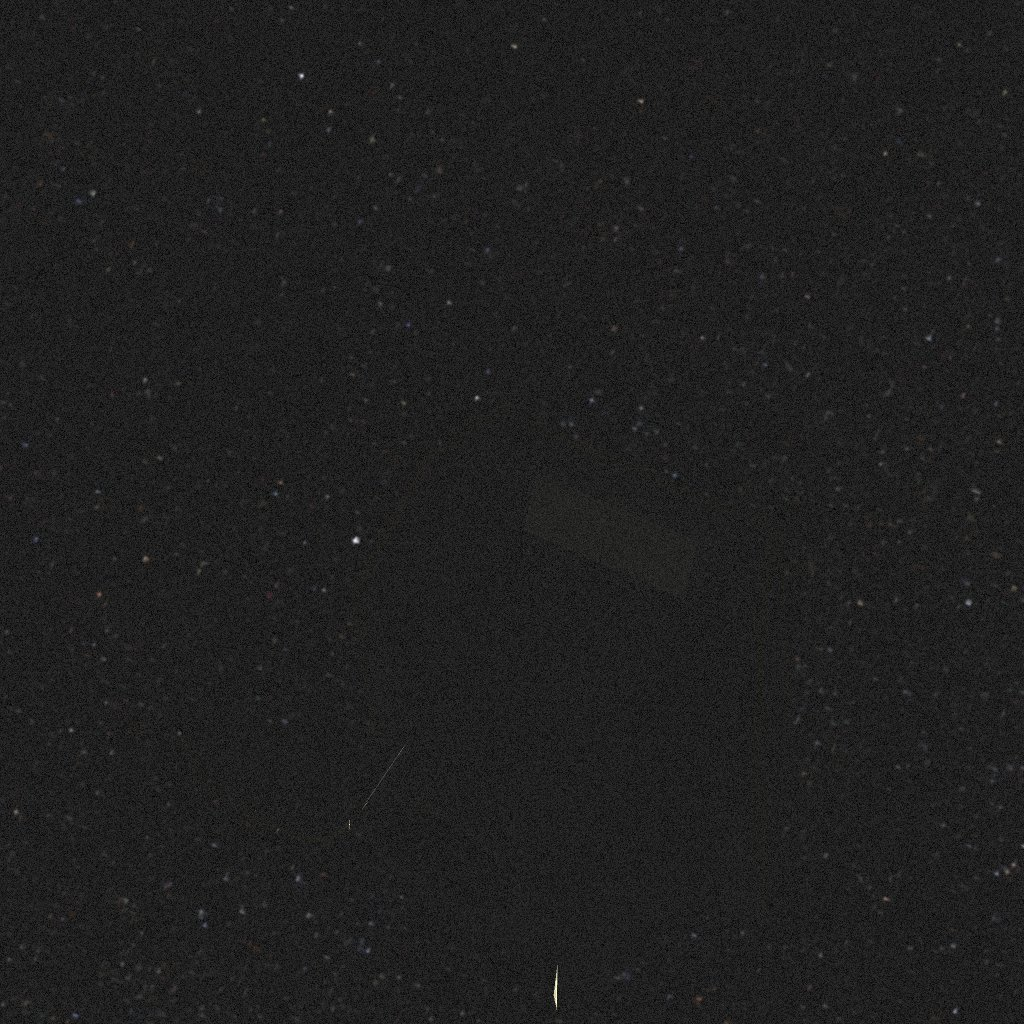cheops: (180, 406, 795, 1024)
